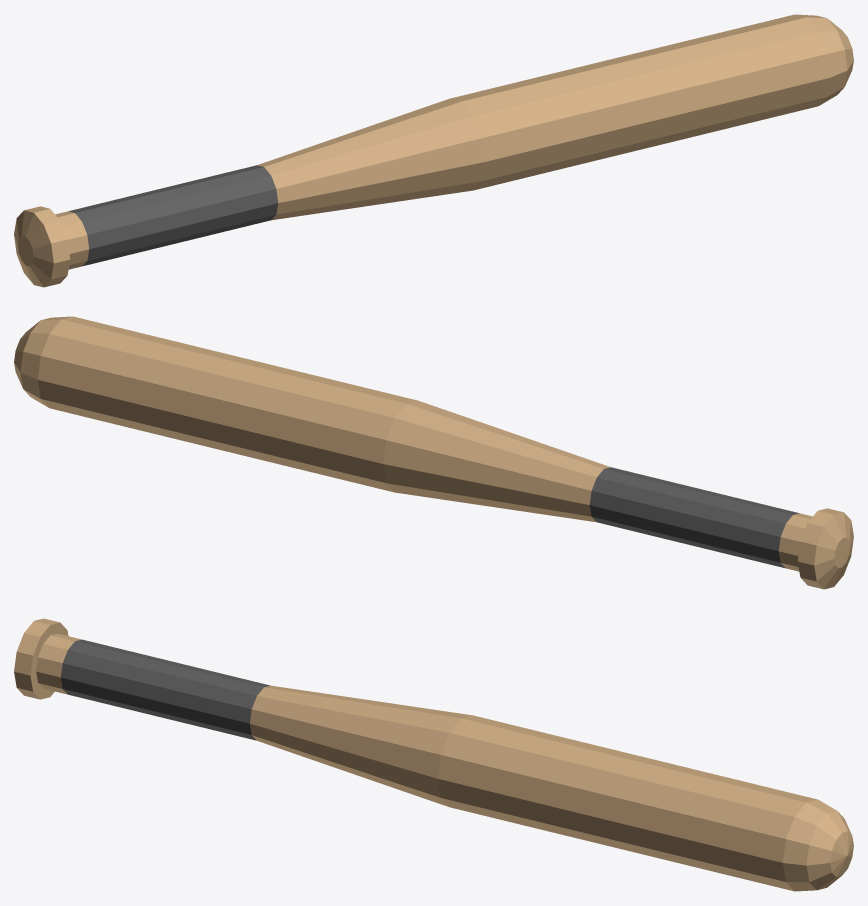
The model's file is Baseball_Bat.glb.
3 views of the same model, one above another, from view 1: azimuth 30°, elevation 25°; view 2: azimuth 150°, elevation 25°; view 3: azimuth 330°, elevation 25° (orthographic).
Parts seen in each view (by area): view 1: Baseball_Bat; view 2: Baseball_Bat; view 3: Baseball_Bat.
Part boxes in pixels (x1,y1,x2,y2): Baseball_Bat: (14, 14, 853, 287); Baseball_Bat: (14, 316, 853, 589); Baseball_Bat: (14, 618, 853, 891).
Size of the model in its own units: 1 by 0.1 by 0.1.
